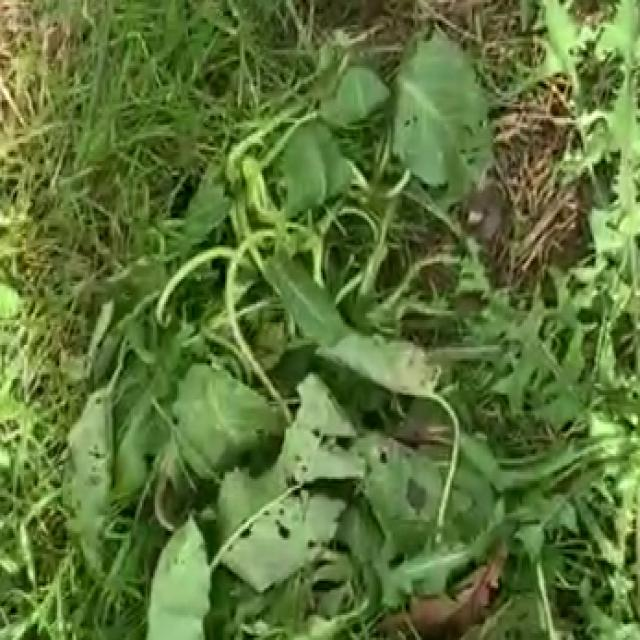organic waste: (37, 0, 561, 640)
